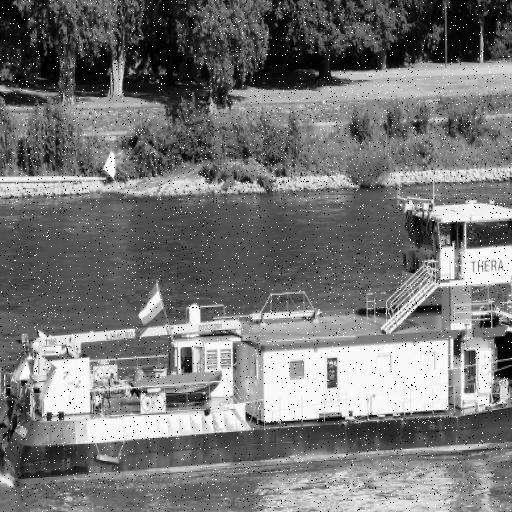tugboat: (1, 156, 512, 496)
